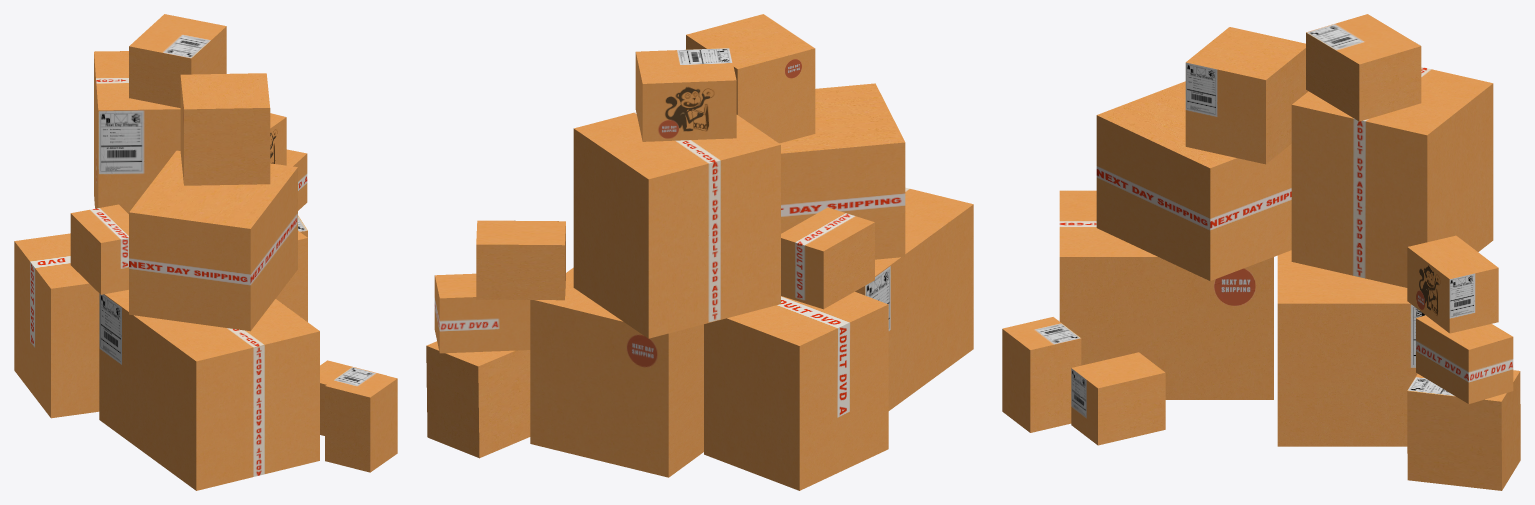
3 views of the same model, side by side, from view 1: azimuth 30°, elevation 25°; view 2: azimuth 150°, elevation 25°; view 3: azimuth 270°, elevation 25° (orthographic). The views are drawn at different scales.
Parts seen in each view (by area): view 1: Cube, Cube.008, Cube.002, Cube.006; view 2: Cube, Cube.002, Cube.008, Cube.006; view 3: Cube, Cube.008, Cube.002, Cube.006.
Boxes of the visible parts, bbox=[...] form: Cube: bbox=[51, 14, 397, 490]; Cube.008: bbox=[129, 167, 297, 331]; Cube.002: bbox=[14, 154, 307, 417]; Cube.006: bbox=[270, 117, 286, 165]; Cube: bbox=[426, 14, 973, 490]; Cube.002: bbox=[434, 207, 888, 490]; Cube.008: bbox=[781, 142, 905, 259]; Cube.006: bbox=[514, 80, 736, 221]; Cube: bbox=[1002, 14, 1520, 490]; Cube.008: bbox=[1096, 115, 1291, 280]; Cube.002: bbox=[1416, 318, 1513, 403]; Cube.006: bbox=[1407, 247, 1449, 332].
Size of the model in its own units: 5.35 by 5.05 by 6.58.
Materials: 7 (7 with a texture image).
